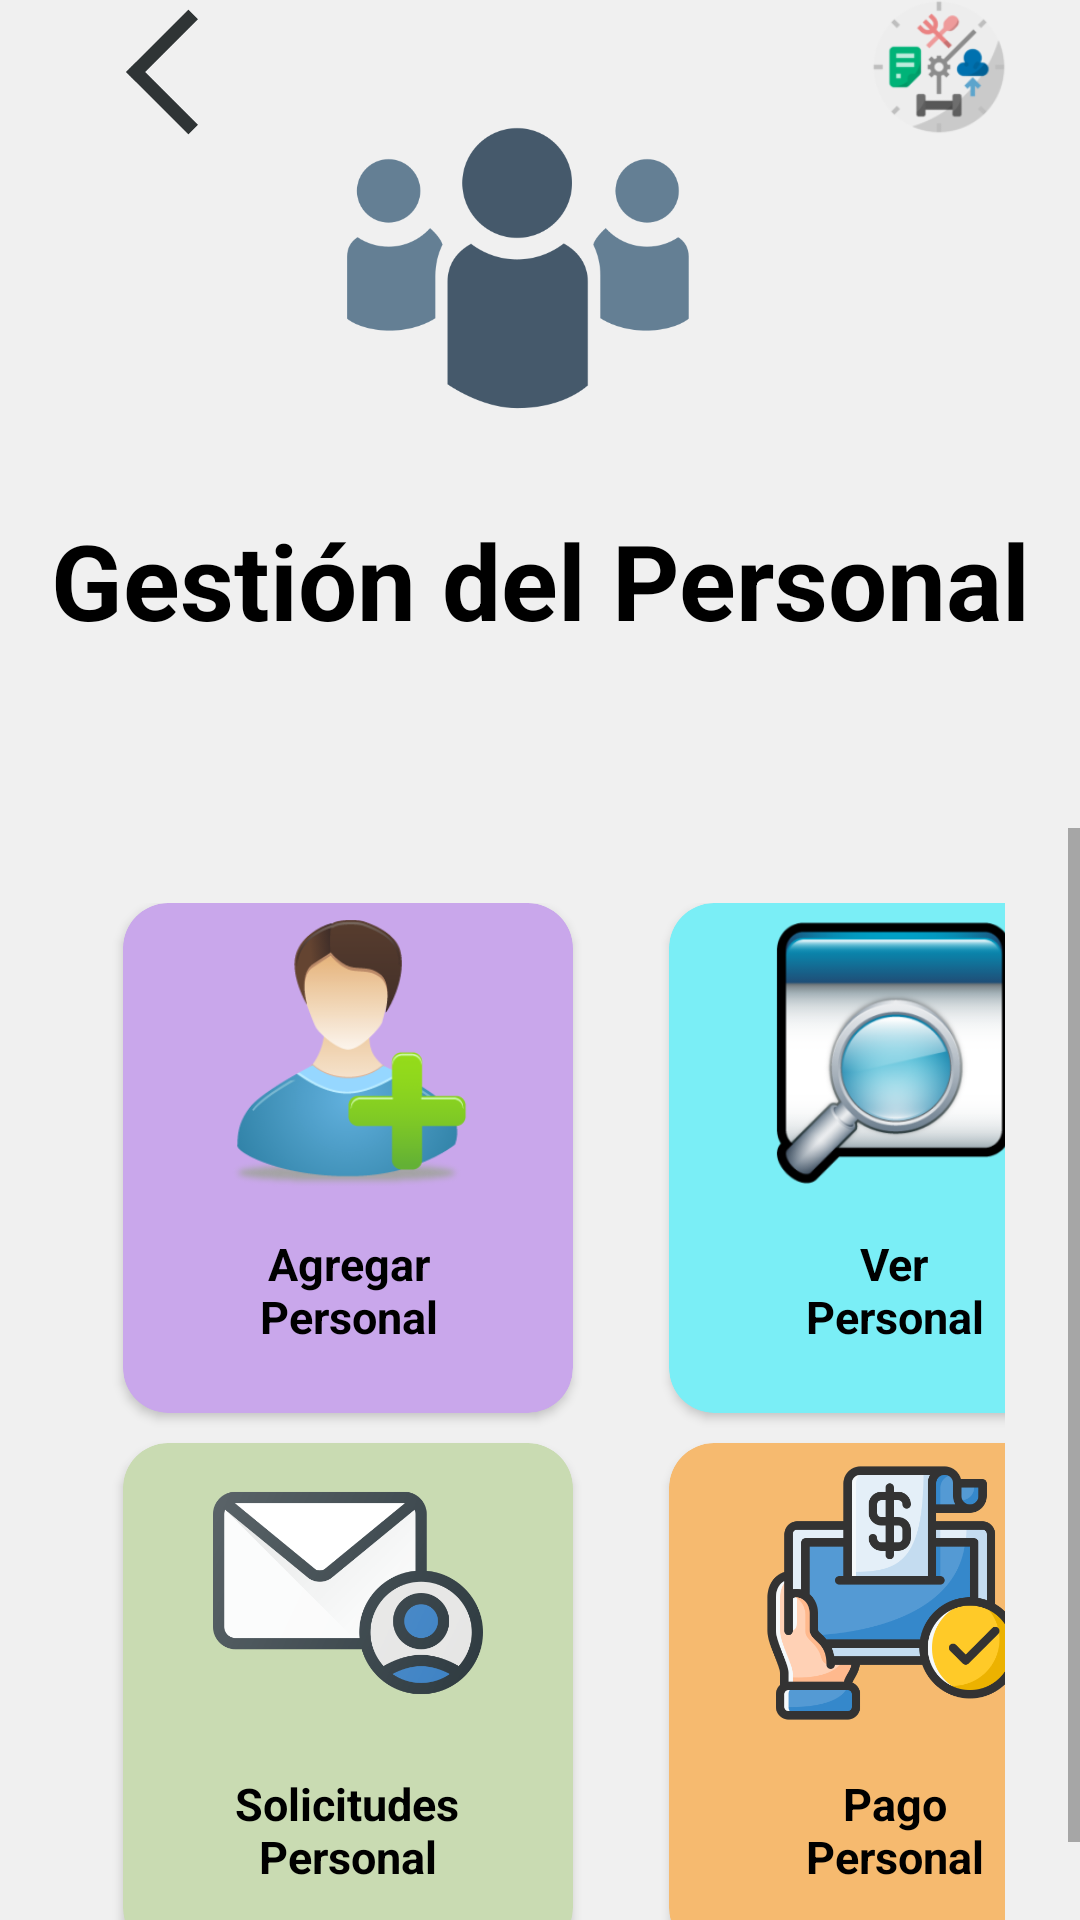

Where icons sit on this 1080px×1920px app screen, as bbox=(x1, y1, x2, y2):
fllecha: bbox=(126, 10, 198, 134)
